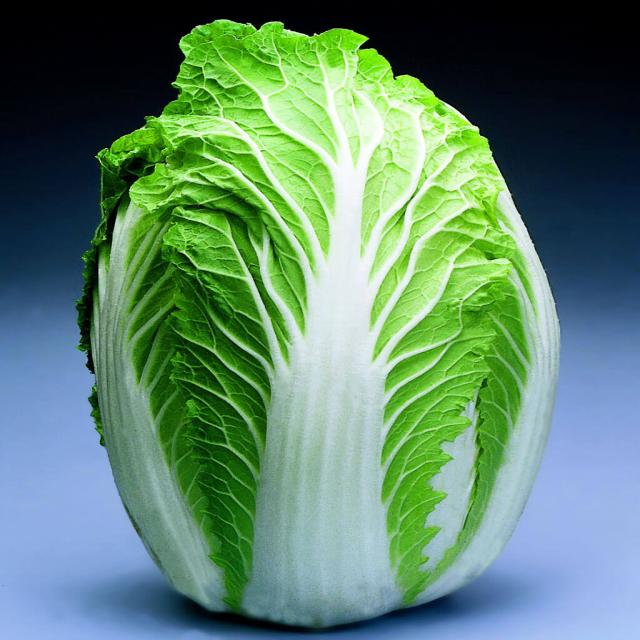cabbage: (84, 0, 577, 635)
